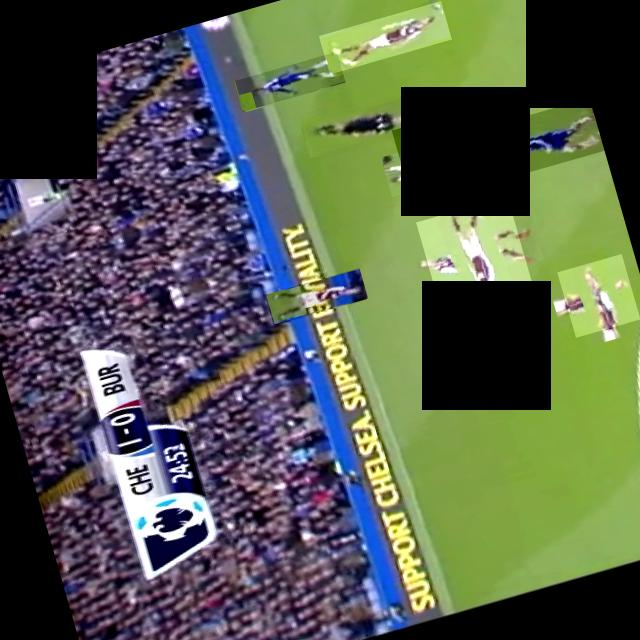referee: (298, 88, 429, 160)
soccer-player: (416, 195, 532, 312), (391, 106, 498, 212), (479, 96, 604, 180), (318, 0, 451, 72), (556, 252, 640, 336), (233, 50, 345, 110), (264, 266, 368, 324)
